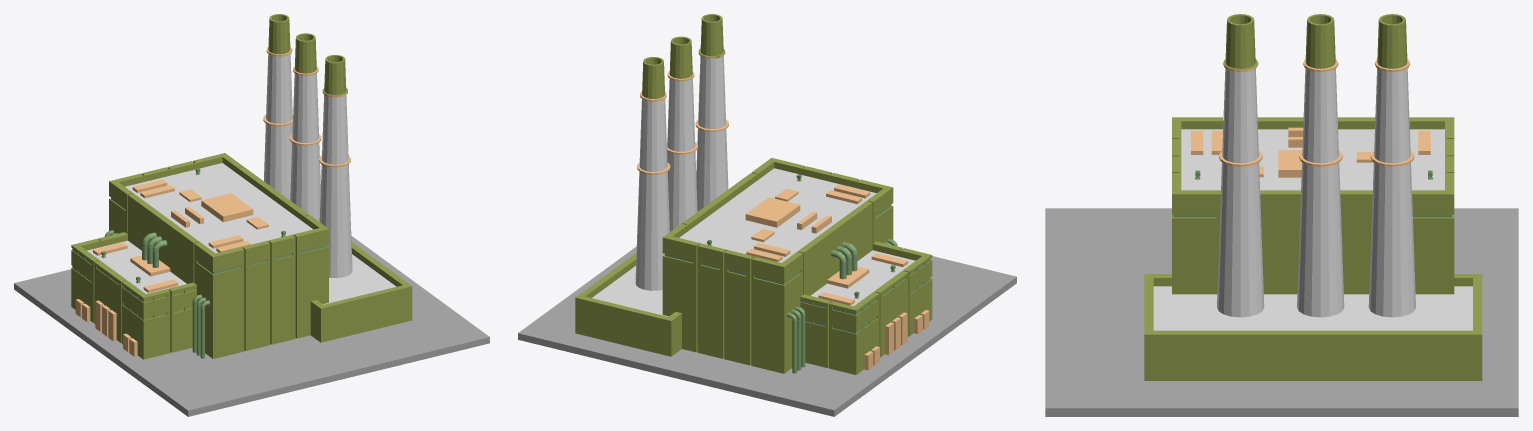
The model's file is Planta de Processamento.fbx.
3 renders of one model, left to right at view 1: azimuth 30°, elevation 25°; view 2: azimuth 150°, elevation 25°; view 3: azimuth 270°, elevation 25°, orthographic. The views are drawn at different scales.
Parts seen in each view (by area): view 1: Planta de Processamento de Residuos; view 2: Planta de Processamento de Residuos; view 3: Planta de Processamento de Residuos.
Part boxes in pixels (x1=…): Planta de Processamento de Residuos: x1=14, y1=14, x2=489, y2=416; Planta de Processamento de Residuos: x1=518, y1=14, x2=1016, y2=416; Planta de Processamento de Residuos: x1=1045, y1=14, x2=1518, y2=416.
Bounding box in the file's own units: 97.42 × 77.71 × 97.42.
